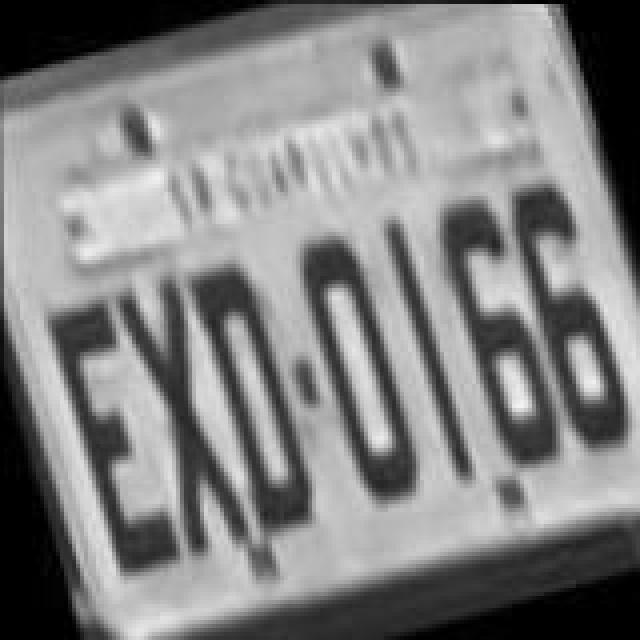1: (372, 204, 480, 484)
6: (424, 180, 572, 480), (496, 164, 640, 460)
D: (182, 256, 322, 544)
E: (44, 288, 188, 584)
O: (288, 222, 428, 518)
X: (106, 260, 254, 564)
